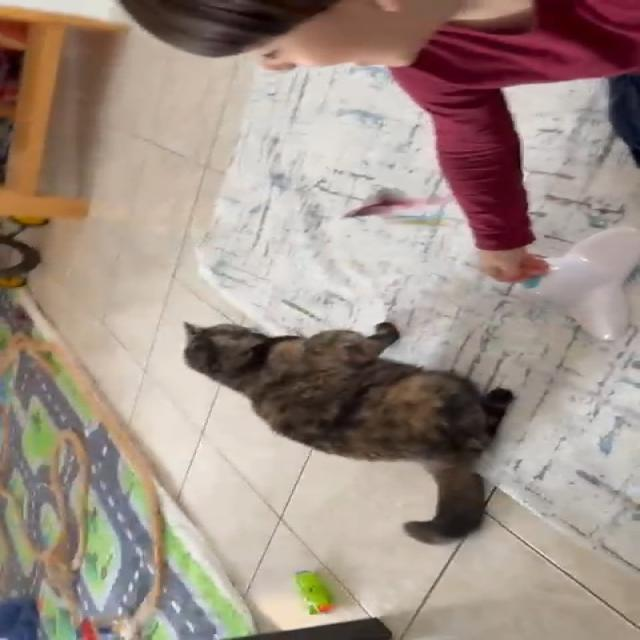authorized: (180, 319, 516, 544)
